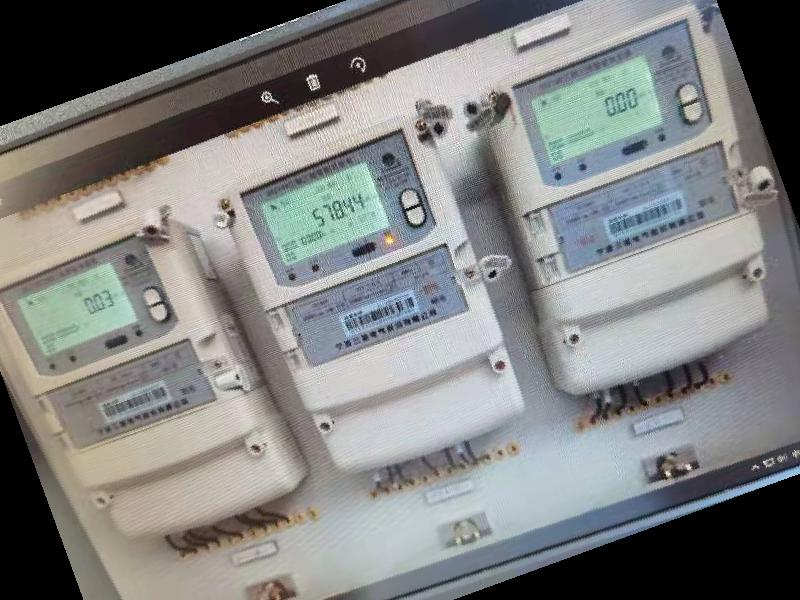digital: (223, 111, 522, 472), (491, 6, 769, 393), (1, 223, 295, 541)
